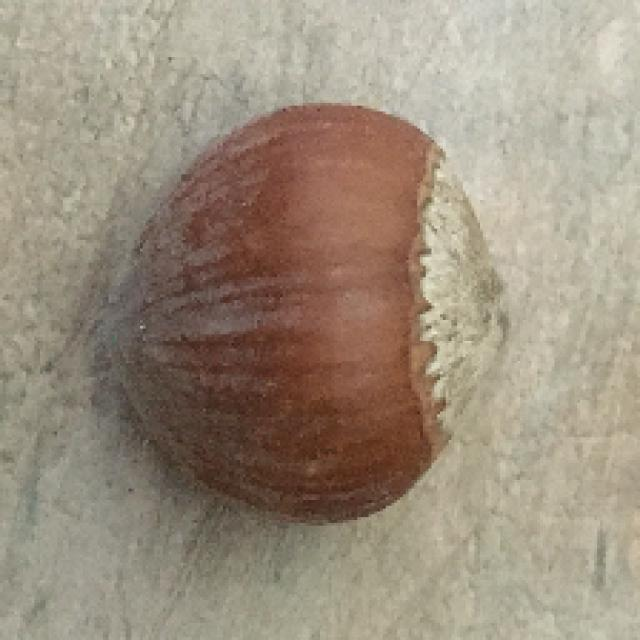qualityHazelnut: (101, 97, 514, 524)
